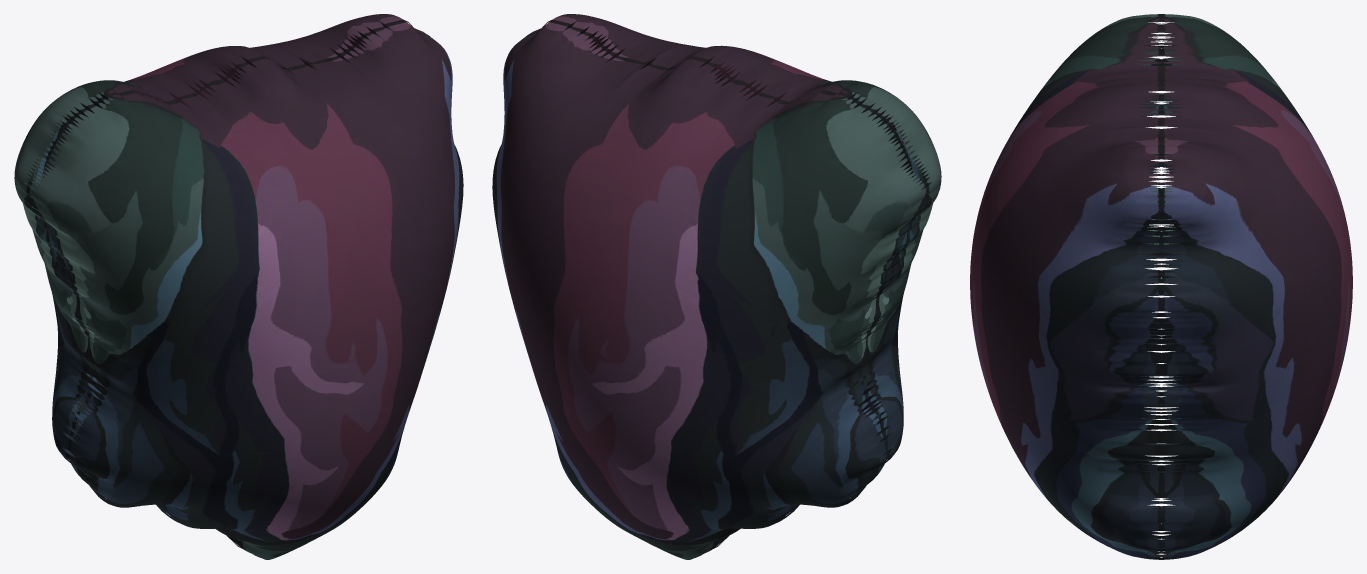
Rendered from violet_cliff.glb.
3 views of the same model, side by side, from view 1: azimuth 30°, elevation 25°; view 2: azimuth 150°, elevation 25°; view 3: azimuth 270°, elevation 25° (orthographic). The views are drawn at different scales.
Visible parts, largest first — view 1: violet_cliff; view 2: violet_cliff; view 3: violet_cliff.
Part boxes in pixels (x1=…): violet_cliff: x1=14, y1=14, x2=463, y2=559; violet_cliff: x1=492, y1=14, x2=941, y2=559; violet_cliff: x1=970, y1=14, x2=1352, y2=559.
Size of the model in its own units: 0.9873 by 1.13 by 0.8307.
1 material, 1 textured.
